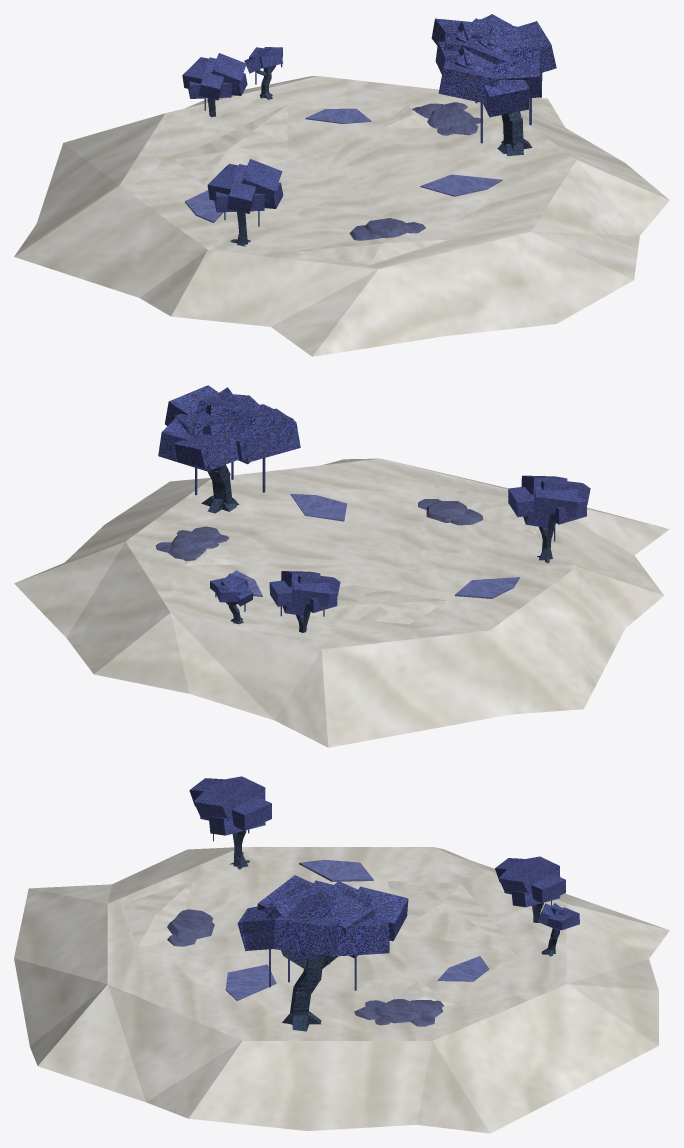
The model's file is Map_04.fbx.
3 renders of one model, top to bottom at view 1: azimuth 30°, elevation 25°; view 2: azimuth 150°, elevation 25°; view 3: azimuth 270°, elevation 25°, orthographic. The views are drawn at different scales.
Parts seen in each view (by area): view 1: Map_04; view 2: Map_04; view 3: Map_04.
Part boxes in pixels (x1,y1,x2,y2): Map_04: (14,14,669,356); Map_04: (14,385,669,747); Map_04: (14,776,669,1133).
Bounding box in the file's own units: 7509 × 2291 × 7125.
